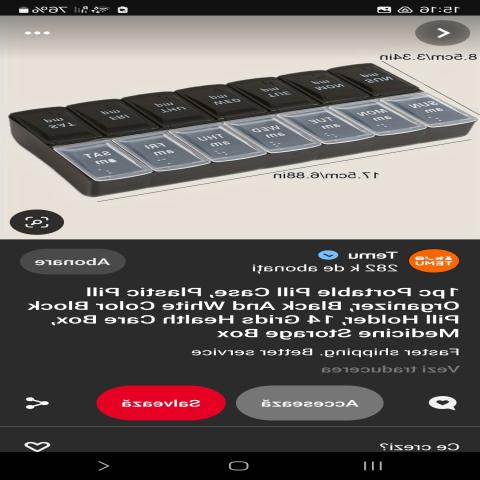PillBox: (16, 55, 473, 200)
